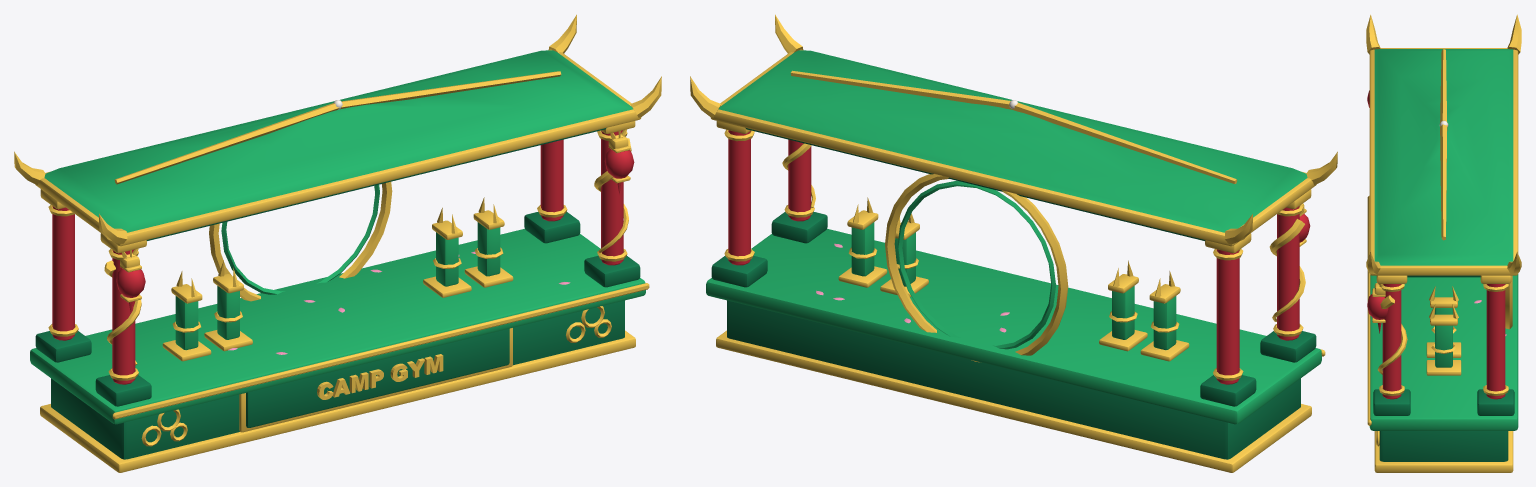
File: st_13_jade.glb
3 views of the same model, side by side, from view 1: azimuth 30°, elevation 25°; view 2: azimuth 150°, elevation 25°; view 3: azimuth 270°, elevation 25° (orthographic). The views are drawn at different scales.
Parts seen in each view (by area): view 1: st_13_jade; view 2: st_13_jade; view 3: st_13_jade.
Boxes of the visible parts, <box> form: st_13_jade: <box>14,14,661,472</box>; st_13_jade: <box>690,14,1337,472</box>; st_13_jade: <box>1366,14,1521,472</box>.
Size of the model in its own units: 11.35 by 5.43 by 3.14.
